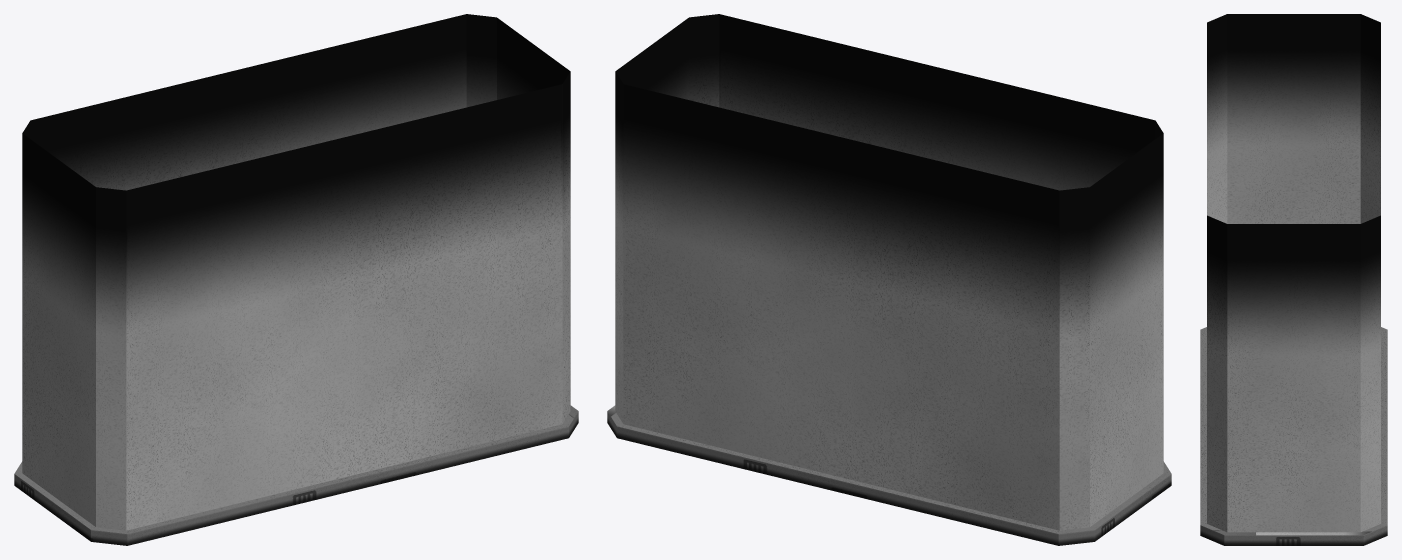
The model's file is PillarLong.FBX.
3 renders of one model, left to right at view 1: azimuth 30°, elevation 25°; view 2: azimuth 150°, elevation 25°; view 3: azimuth 270°, elevation 25°, orthographic. The views are drawn at different scales.
Visible parts, largest first — view 1: PillarLong; view 2: PillarLong; view 3: PillarLong.
Part boxes in pixels (left/top/right/bottom): PillarLong: left=14, top=14, right=578, bottom=545; PillarLong: left=607, top=14, right=1171, bottom=545; PillarLong: left=1200, top=14, right=1387, bottom=545.
Bounding box in the file's own units: 4.41 × 1.62 × 3.04.
Materials: 1 (1 with a texture image).
